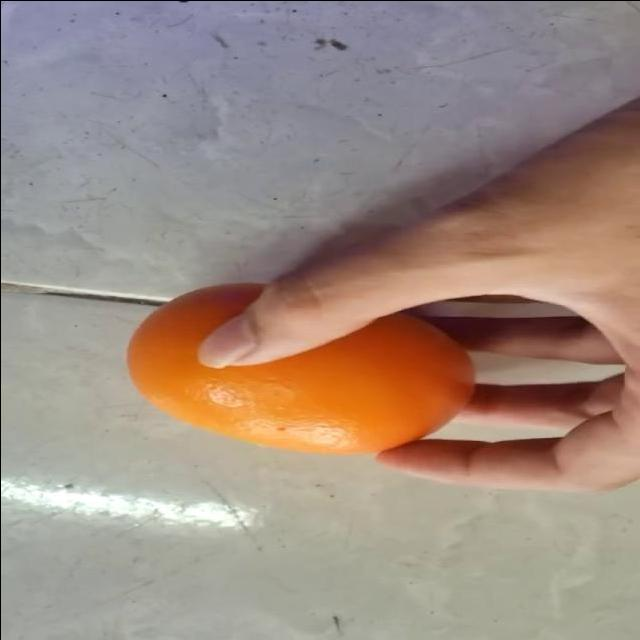Orange: (125, 282, 476, 457)
